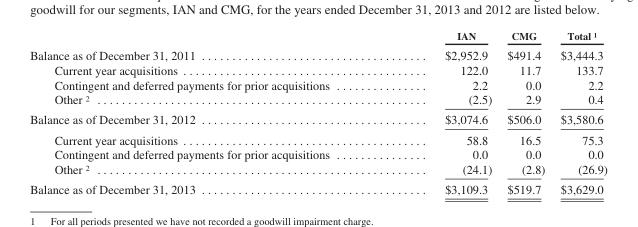table: (29, 29, 606, 195)
table column: (29, 29, 386, 195), (386, 29, 498, 195), (498, 29, 552, 195), (552, 29, 606, 195)
table column header: (29, 29, 606, 44)
table row: (29, 109, 606, 129), (29, 44, 606, 62), (29, 91, 606, 109), (29, 161, 606, 179), (29, 129, 606, 146), (29, 179, 606, 195), (29, 29, 606, 44), (29, 76, 606, 91), (29, 146, 606, 161), (29, 62, 606, 76)
